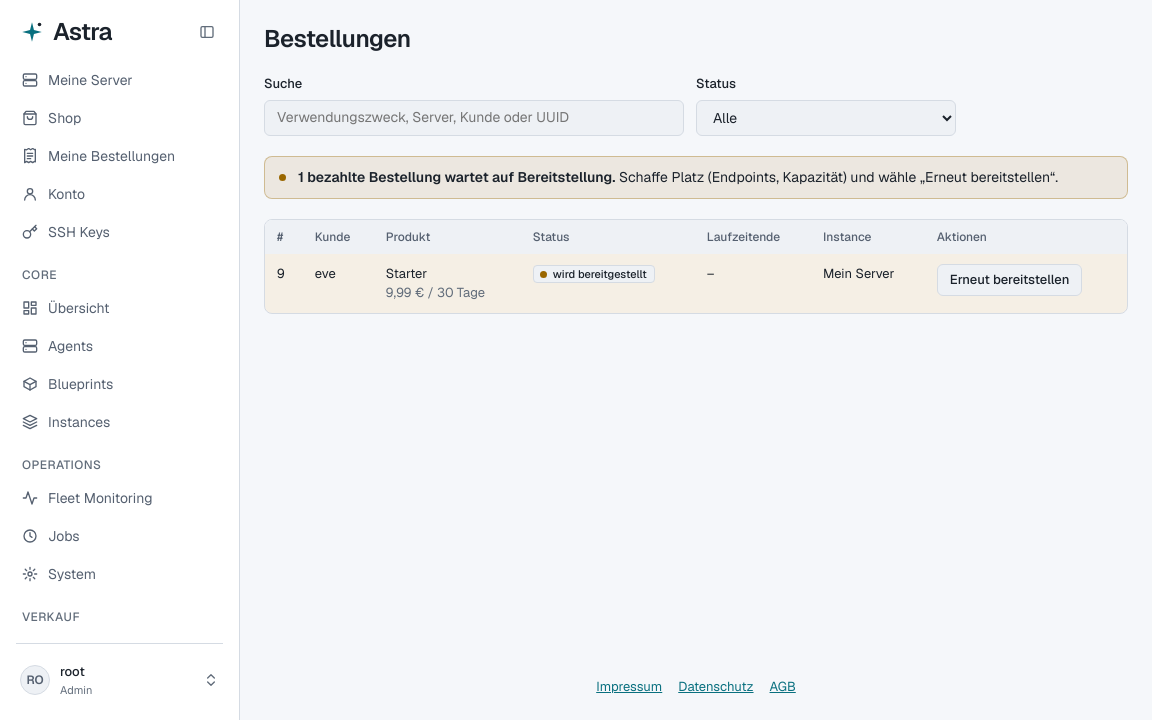
Scenario: AdminOrdersPage › stellt eine wartende Bestellung erneut bereit
Click the button "Erneut bereitstellen". click: (1010,280)
box: x1=937 y1=264 x2=1082 y2=296
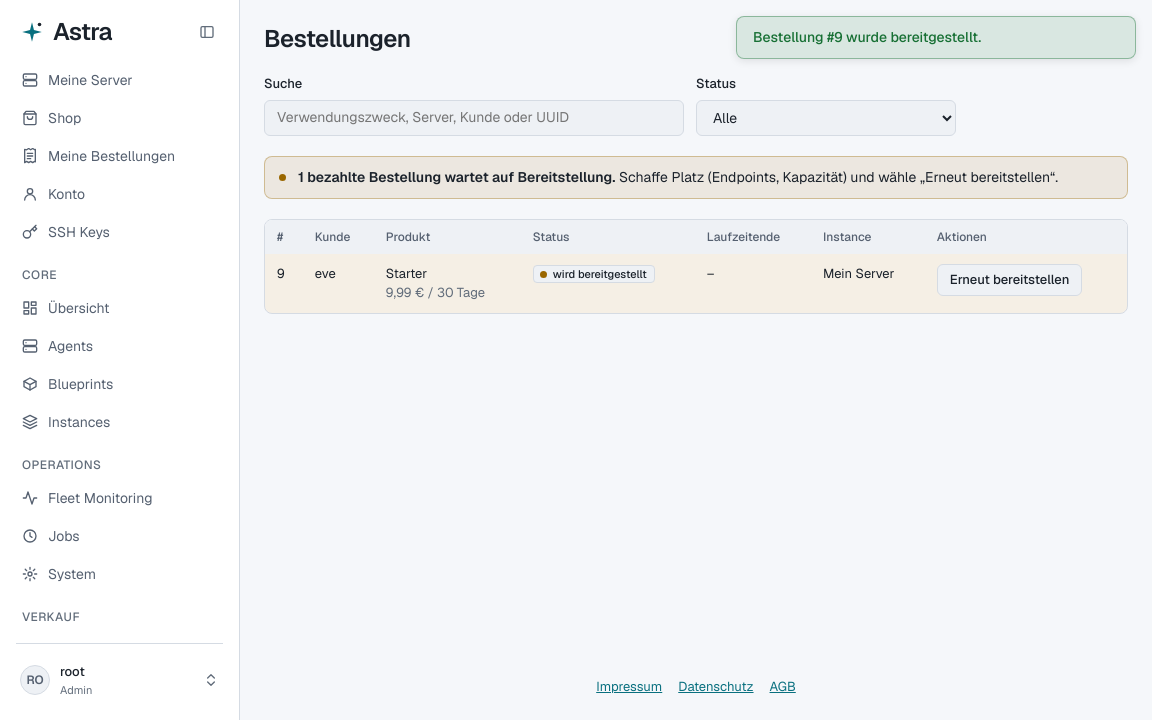
Check: the text "Bestellung #9 wurde bereitgestellt." is shown, box x1=736 y1=16 x2=1136 y2=59
